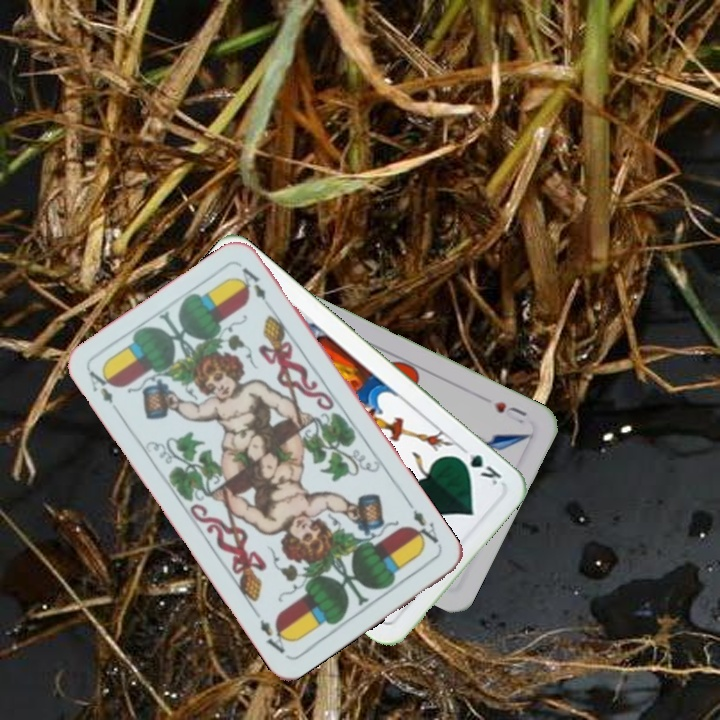EA: (84, 364, 124, 418), (406, 505, 444, 550)
GK: (451, 442, 504, 488)
HU: (489, 397, 531, 427)
